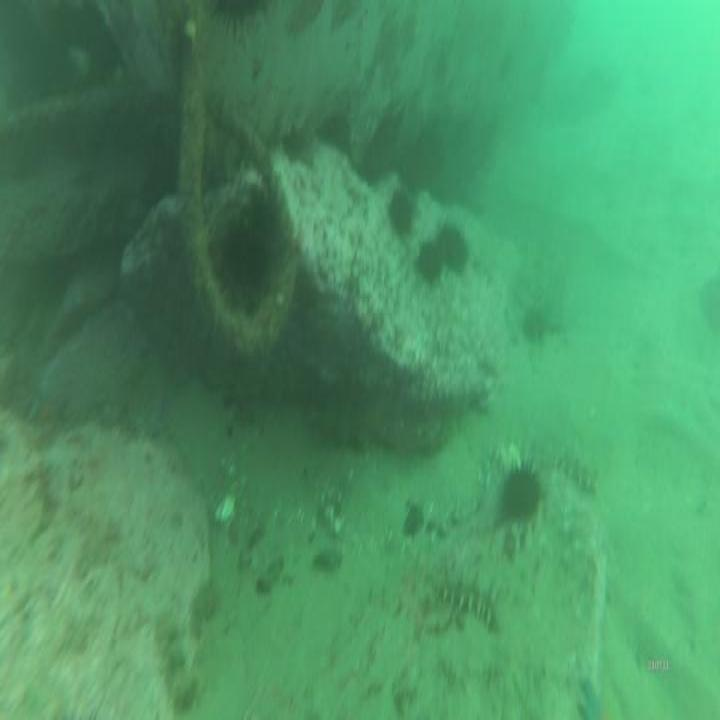echinus: (491, 446, 551, 528), (204, 0, 273, 46), (434, 219, 471, 276), (386, 182, 419, 244), (415, 233, 447, 290)
holothurian: (434, 562, 504, 640), (549, 448, 607, 498)
